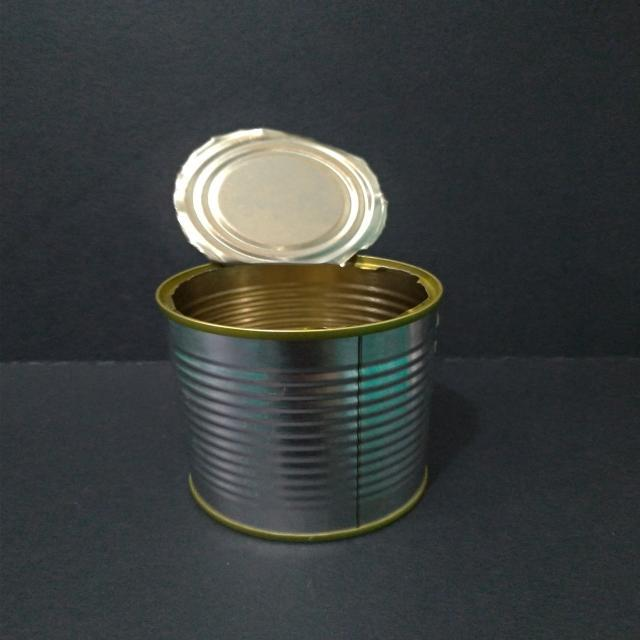metal-can: (152, 122, 446, 543)
